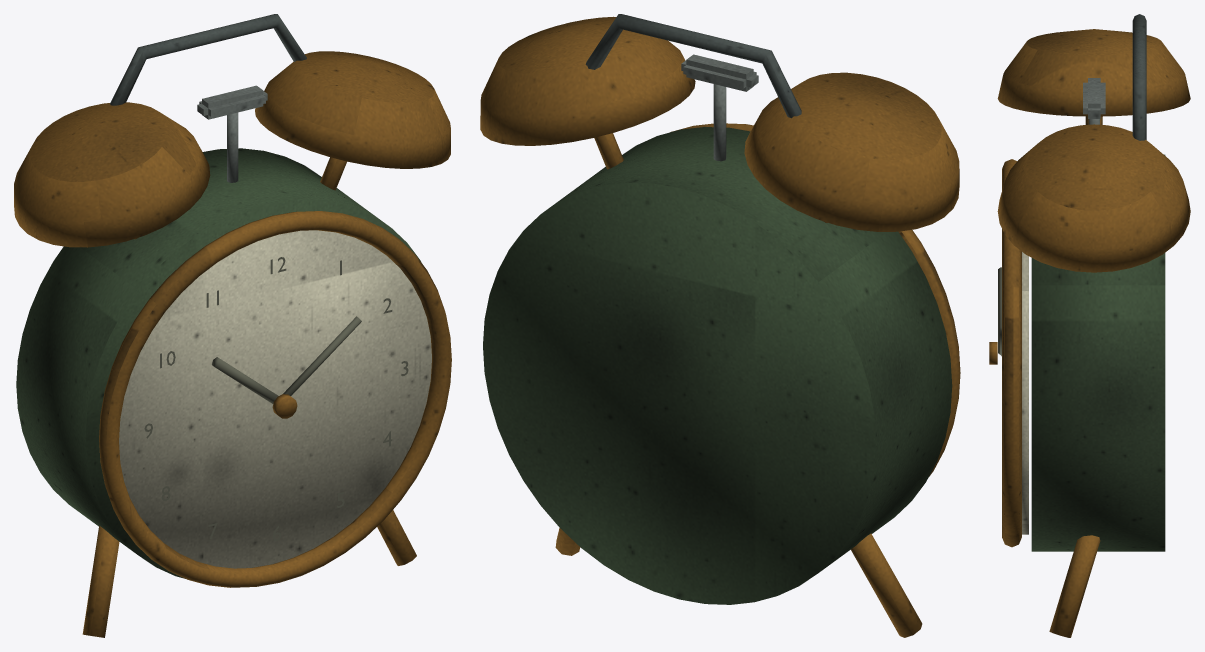
Rendered from twin_bell_alarm_clock.glb.
The picture shows the model from 3 angles, left to right: view 1: azimuth 30°, elevation 25°; view 2: azimuth 150°, elevation 25°; view 3: azimuth 270°, elevation 25°; orthographic projection. The views are drawn at different scales.
Parts seen in each view (by area): view 1: HC02_twin_bell_alarm_clock; view 2: HC02_twin_bell_alarm_clock; view 3: HC02_twin_bell_alarm_clock.
Boxes of the visible parts, x1,y1,x2,y2 form: HC02_twin_bell_alarm_clock: [14, 14, 451, 637]; HC02_twin_bell_alarm_clock: [480, 14, 960, 637]; HC02_twin_bell_alarm_clock: [989, 14, 1190, 637].
Size of the model in its own units: 0.1605 by 0.2021 by 0.071.
6 materials, 5 textured.
